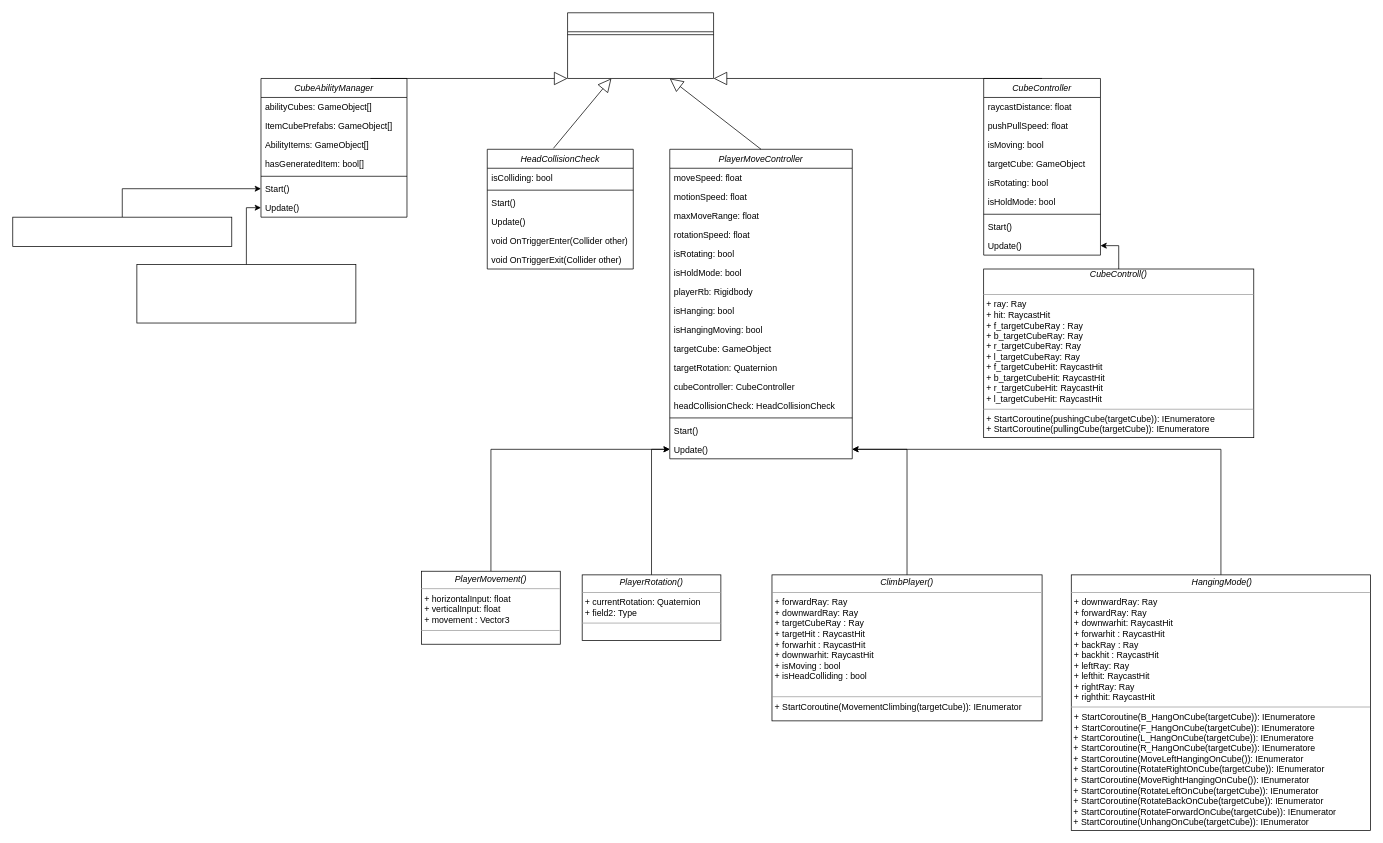
This 1383x843 diagram has some shape labels left out. Each missing label, with the centre of its shape:
generateItems () + spawnRandomAbilityItem(int blockIndex): void: (x=246, y=293)
initializeHasGeneratedItems (): (x=122, y=231)
MonoBehaviour: (x=640, y=45)
